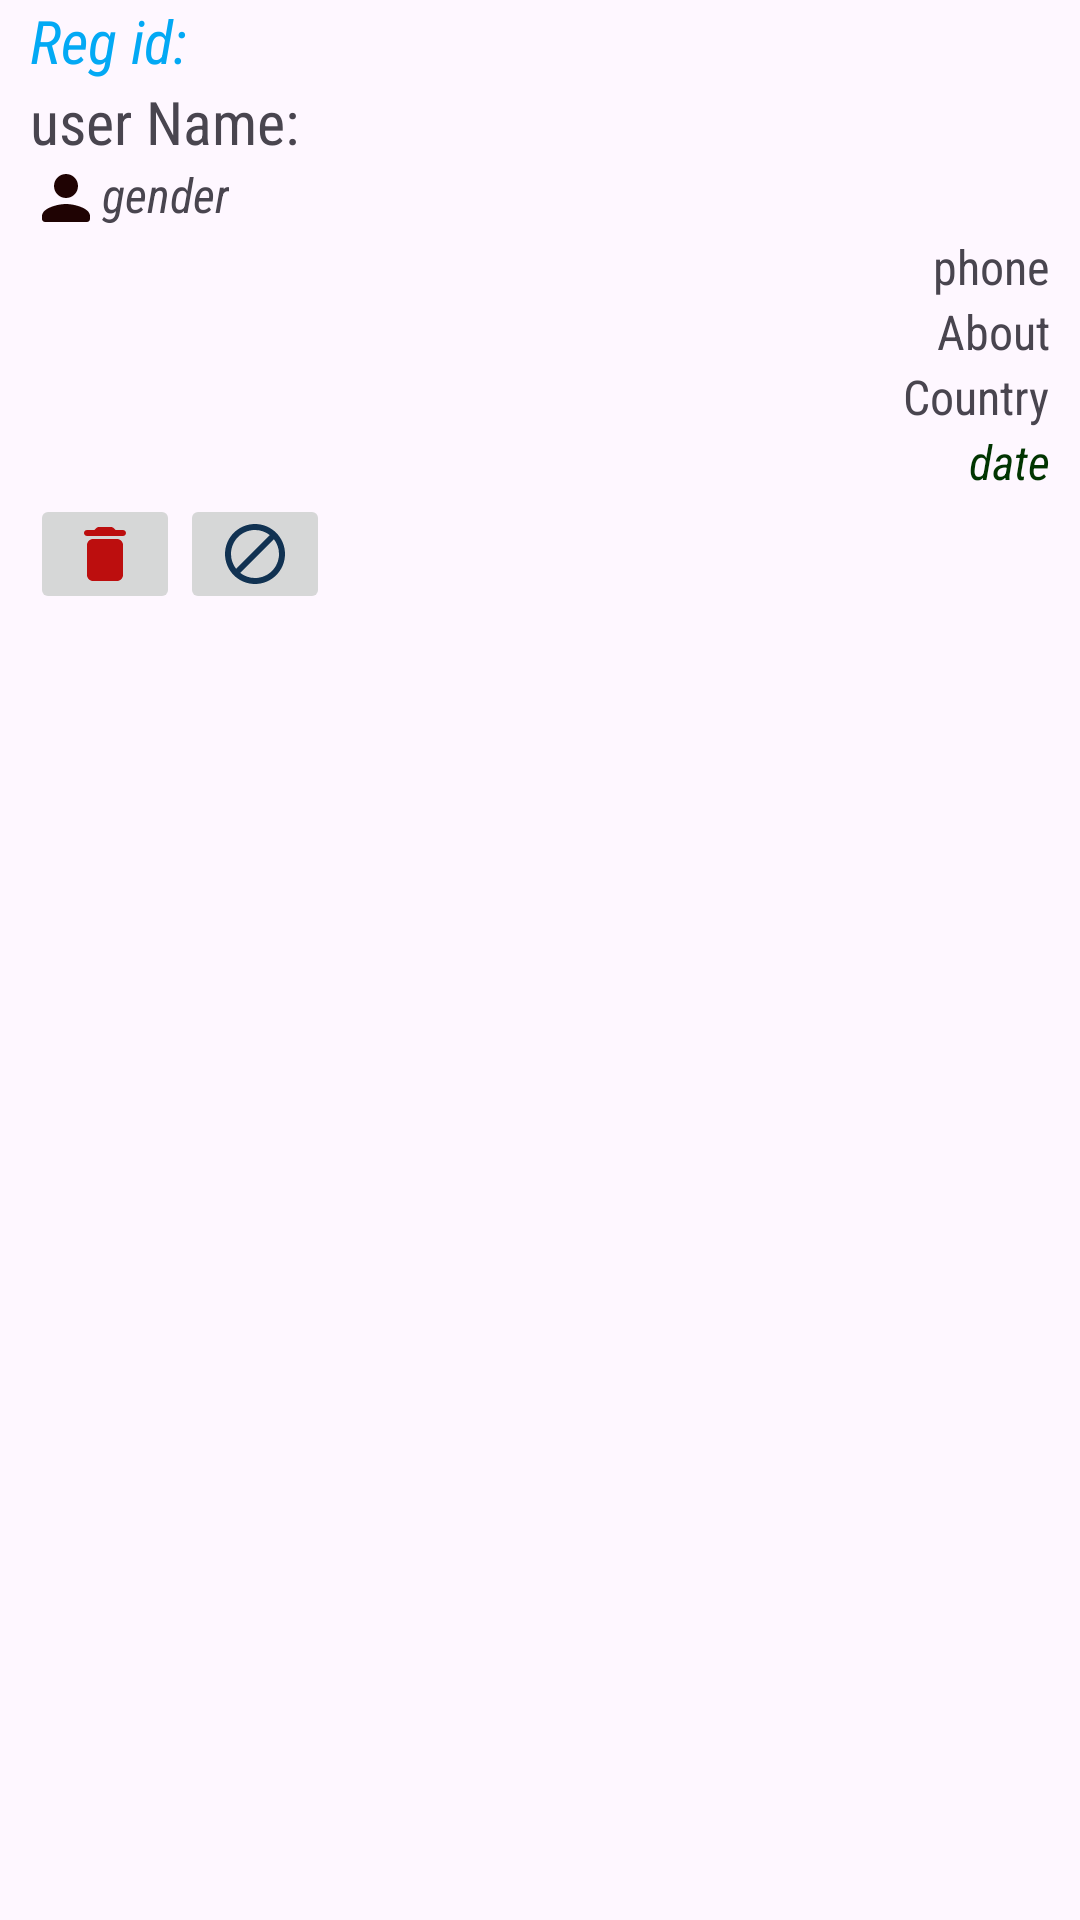

Where icons sit on this 1080px×1920px app screen, as (x1, y1, x2, y2):
block: (192, 512, 318, 596)
delete: (42, 512, 168, 596)
person: (42, 174, 90, 222)
